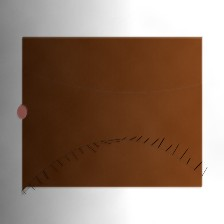corneal_ulcer: (89, 95, 141, 136)
